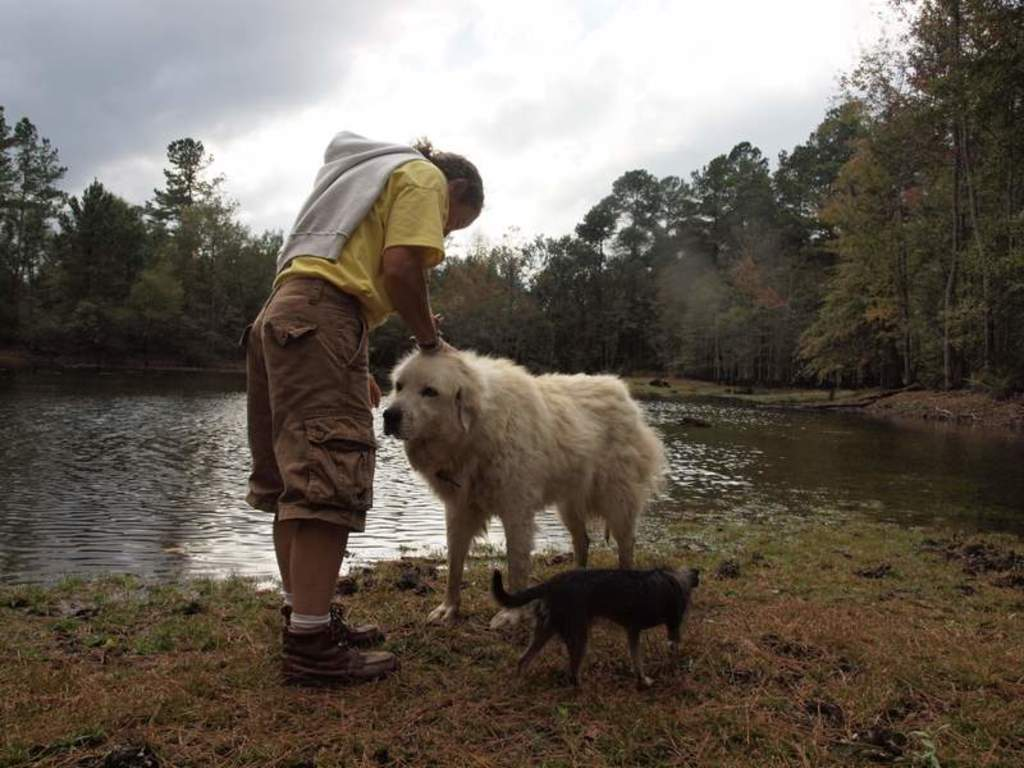Person: (238, 130, 486, 682)
